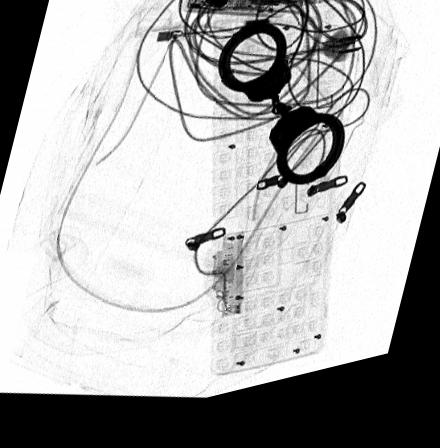HandCuffs: (217, 32, 344, 200)
